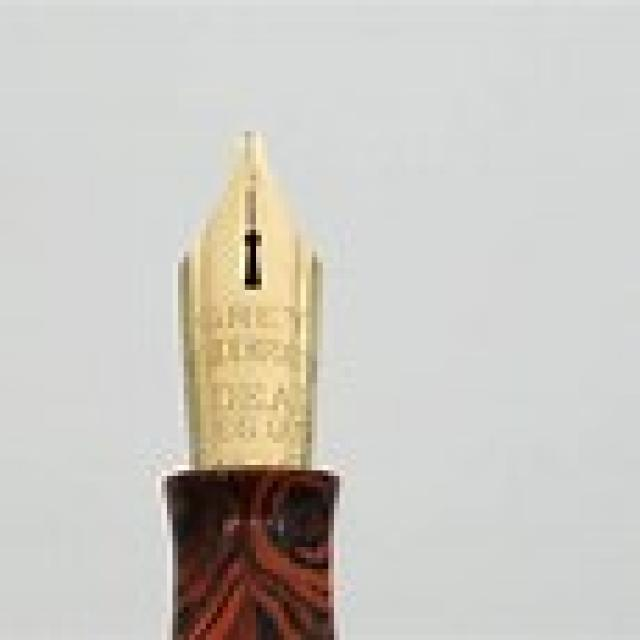pen: (165, 129, 345, 640)
